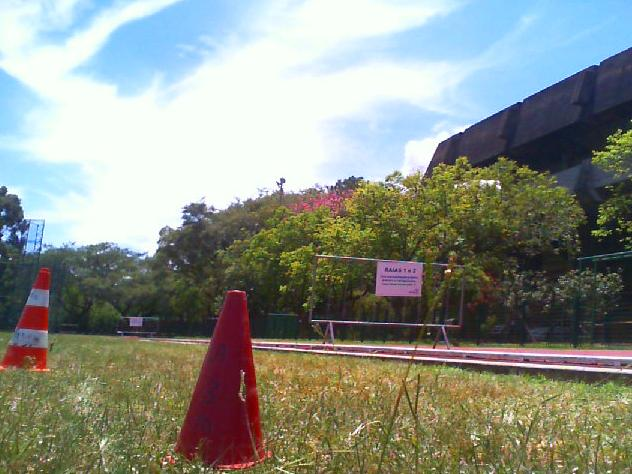0 cone: (174, 291, 271, 471), (0, 267, 50, 372)
